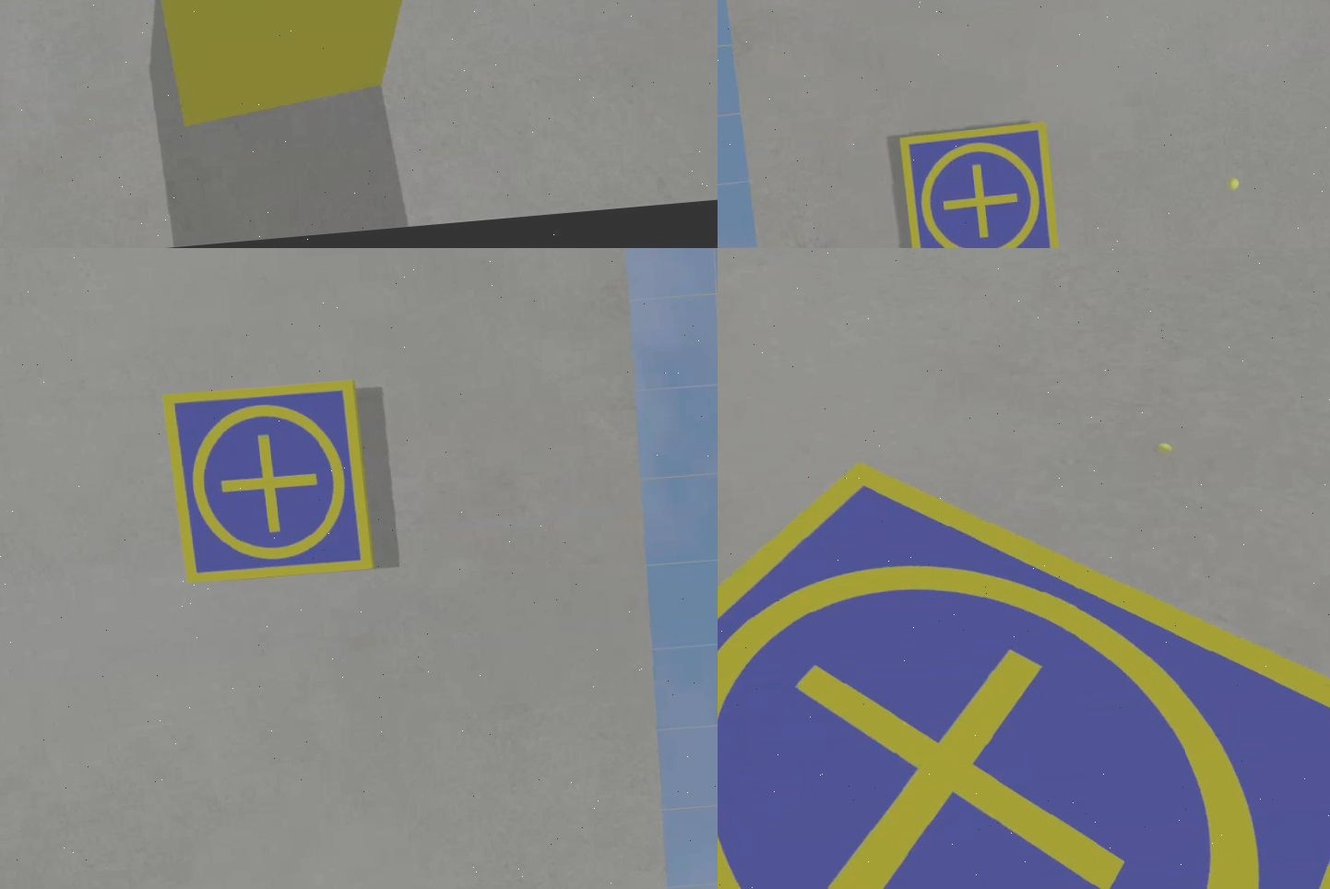small_base: (718, 413, 1330, 889), (160, 374, 381, 590), (898, 121, 1064, 249)
